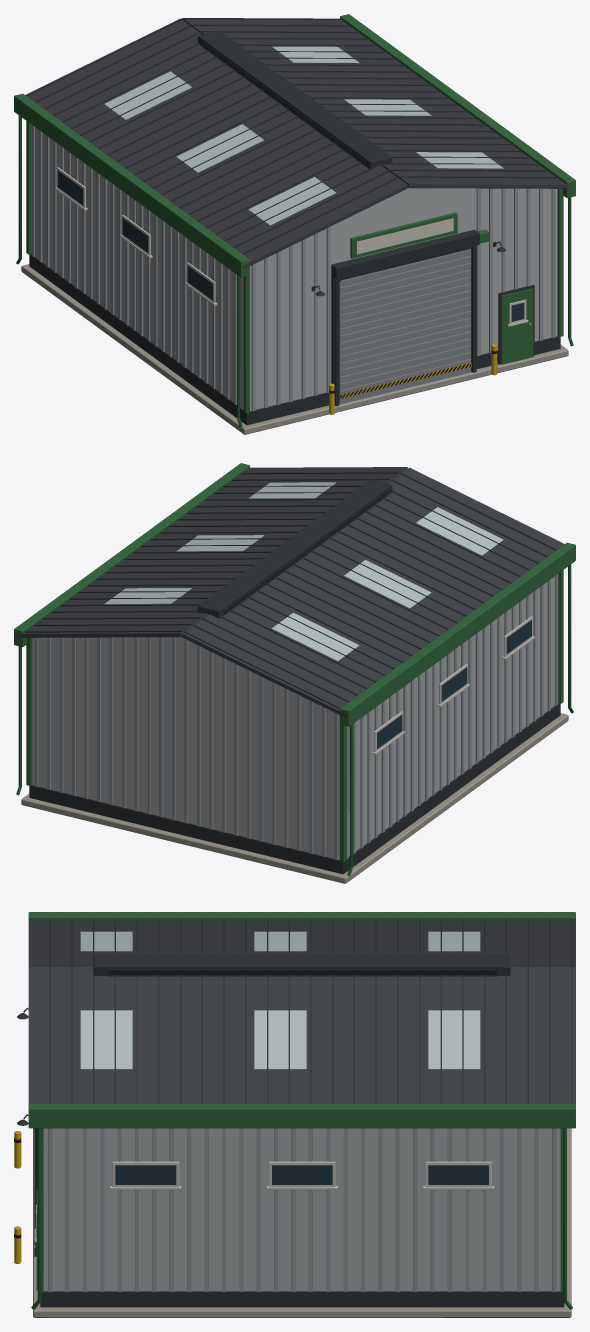
File: bd_warehouse.glb
The picture shows the model from 3 angles, top to bottom: view 1: azimuth 30°, elevation 25°; view 2: azimuth 150°, elevation 25°; view 3: azimuth 270°, elevation 25°; orthographic projection. The views are drawn at different scales.
Visible parts, largest first — view 1: prism, prism.001, prism.005, block.138, block.106, block.001, block.002, block.120, block.113, block.159, block.163, prism.002 (+29 smaller); view 2: prism, prism.001, prism.005, block.002, block.106, block.001, block.120, block.113, prism.004, prism.003, prism.002, prism.008 (+34 smaller); view 3: prism, prism.005, prism.001, block.113, block.002, block.001, block.120, block.106, prism.006, prism.007, prism.008, block.129 (+46 smaller).
Part boxes in pixels (x1,y1,x2,y2): prism: (31, 125, 557, 410); prism.001: (25, 18, 408, 269); prism.005: (182, 18, 572, 188); block.138: (339, 250, 470, 404); block.106: (14, 93, 249, 277); block.001: (21, 264, 568, 434); block.002: (29, 254, 560, 425); block.120: (197, 30, 392, 168); block.113: (340, 14, 575, 198); block.159: (331, 229, 479, 279); block.163: (501, 288, 533, 364); prism.002: (104, 71, 191, 119); prism: (32, 574, 558, 859); prism.001: (181, 467, 564, 718); prism.005: (15, 467, 407, 637); block.002: (29, 703, 560, 874); block.106: (340, 542, 575, 726); block.001: (21, 713, 568, 883); block.120: (197, 479, 392, 618); block.113: (14, 463, 249, 647); prism.004: (416, 507, 503, 555); prism.003: (344, 560, 431, 608); prism.002: (271, 612, 359, 661); prism.008: (248, 482, 336, 498); prism: (43, 1128, 560, 1291); prism.005: (28, 967, 575, 1103); prism.001: (28, 920, 575, 966); block.113: (28, 1104, 575, 1128); block.002: (40, 1291, 564, 1307); block.001: (33, 1128, 571, 1317); block.120: (93, 954, 510, 975); block.106: (28, 912, 575, 920); prism.006: (428, 1010, 480, 1069); prism.007: (254, 1010, 306, 1069); prism.008: (80, 1010, 132, 1069); block.129: (107, 971, 496, 974).
Size of the model in its own units: 10.74 by 6.67 by 12.94.
